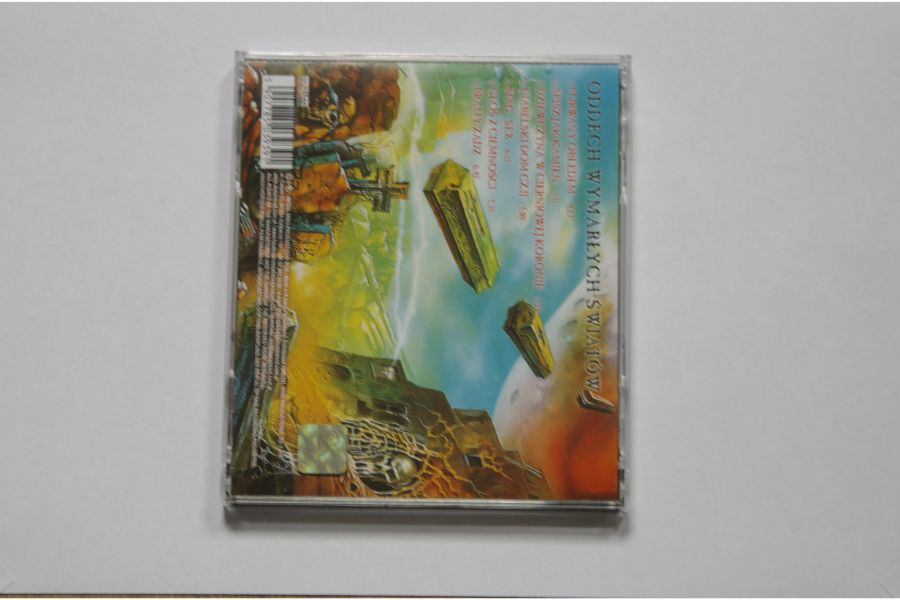album: (221, 49, 628, 516)
